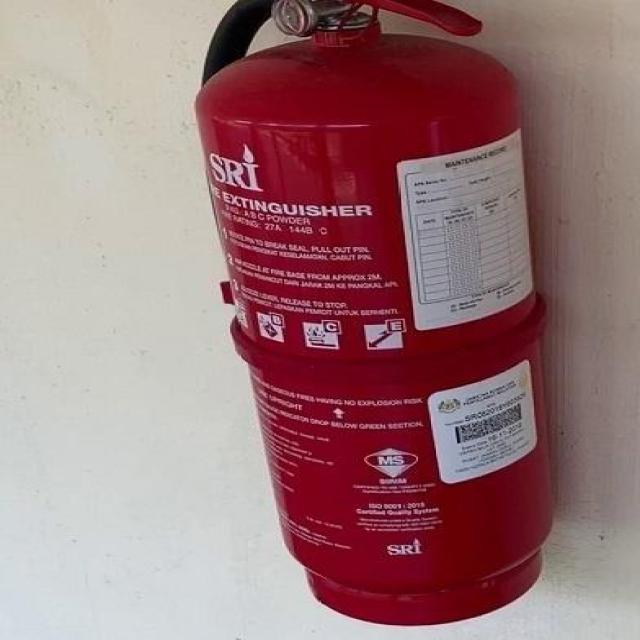fire_extinguisher: (187, 0, 562, 629)
